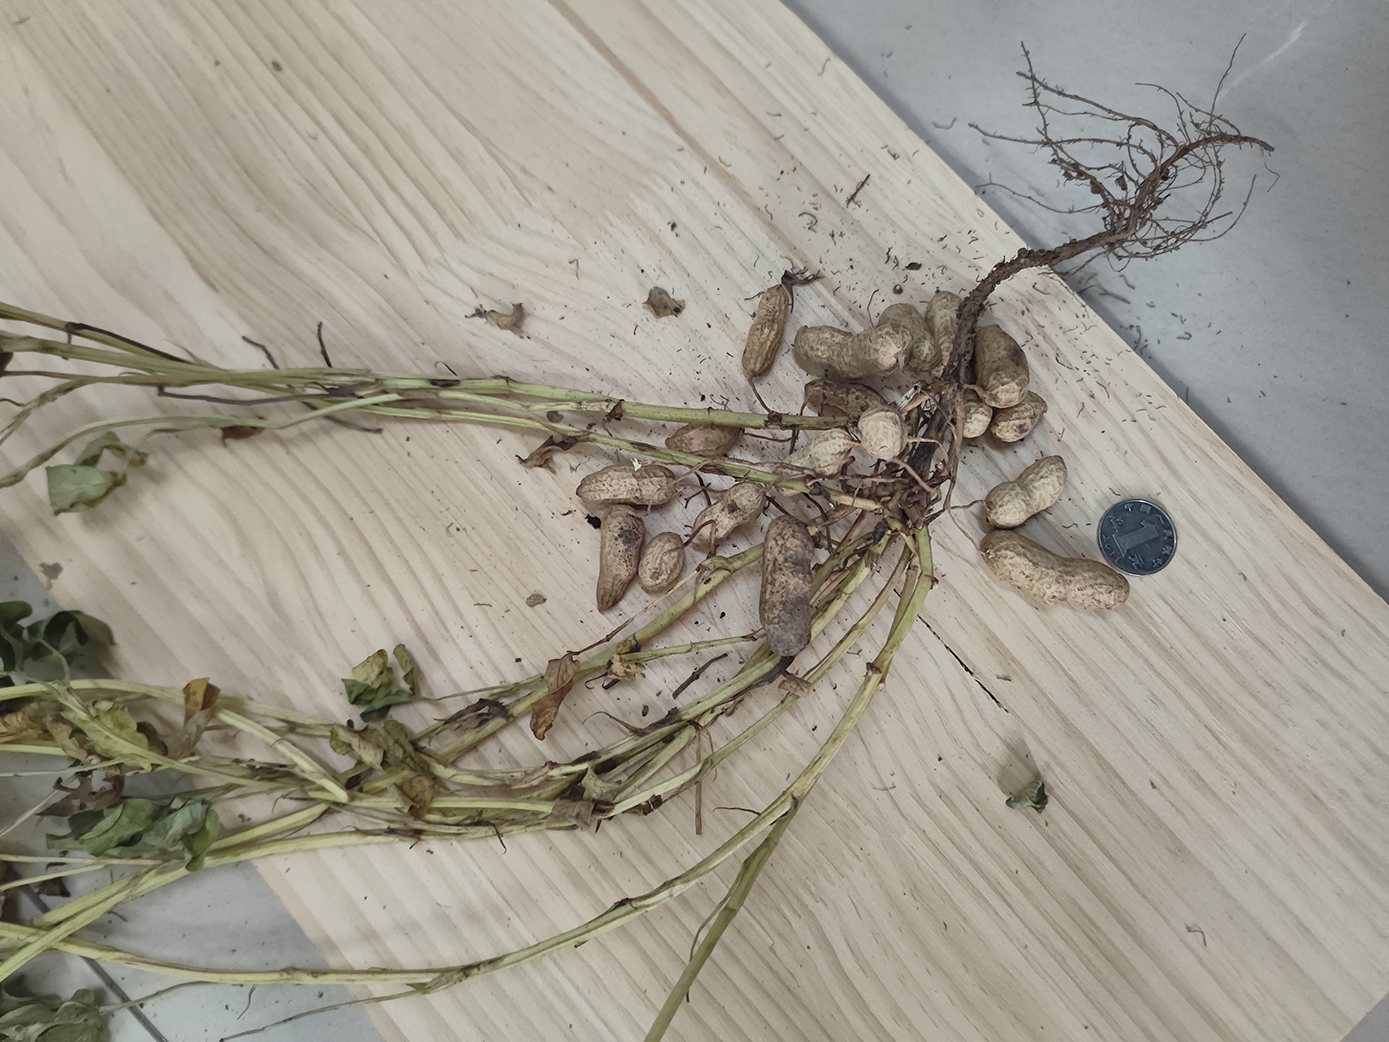h: (979, 531, 1130, 614), (794, 324, 910, 380), (985, 456, 1067, 532), (690, 482, 765, 549), (597, 506, 643, 612), (805, 378, 892, 430), (741, 285, 789, 377), (975, 324, 1028, 408), (576, 465, 678, 507), (880, 304, 940, 374), (927, 290, 973, 375), (777, 427, 850, 476), (665, 415, 743, 460), (991, 391, 1049, 443), (638, 533, 683, 592), (858, 405, 905, 461), (952, 387, 992, 439)
l: (759, 516, 815, 656)
